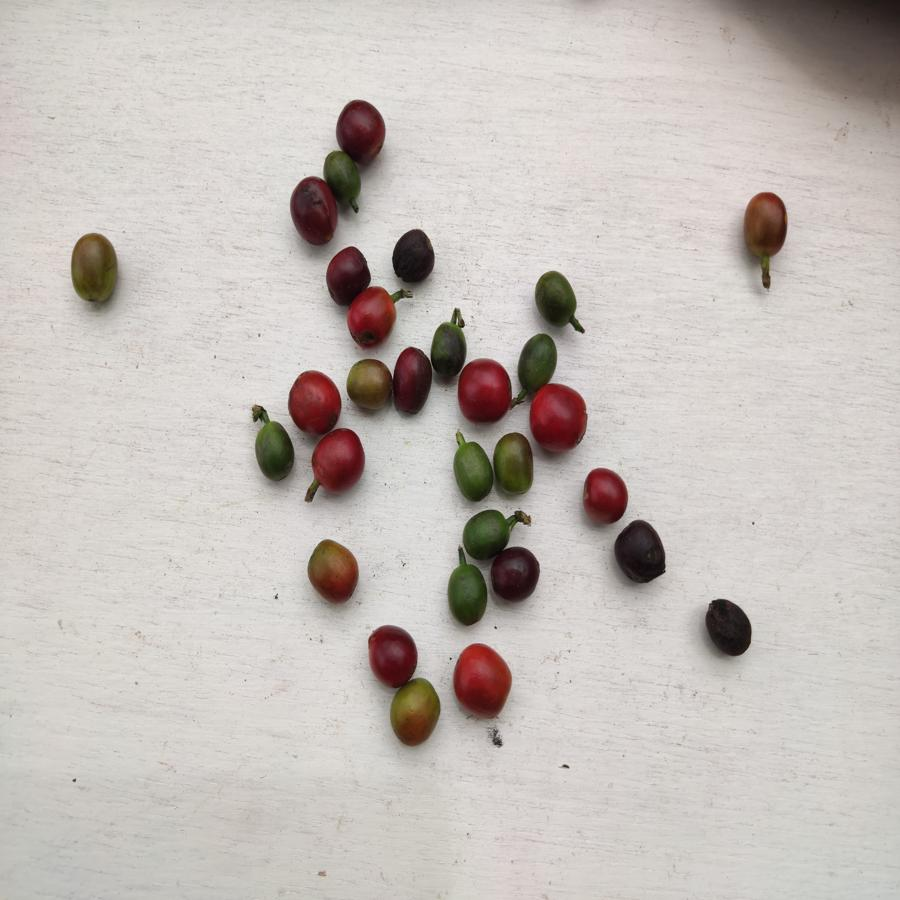Inmaduro: (445, 560, 489, 626), (530, 270, 578, 330), (451, 442, 493, 505), (459, 508, 508, 558), (519, 332, 553, 392), (429, 317, 465, 373), (327, 148, 360, 208)
Maduro: (451, 641, 513, 720), (527, 385, 589, 450), (286, 365, 342, 435), (456, 357, 515, 421), (364, 621, 424, 681), (310, 427, 365, 489), (346, 288, 396, 348), (578, 466, 631, 520)
Pinton: (303, 537, 361, 603), (69, 228, 118, 306), (387, 679, 442, 746), (739, 187, 790, 258), (490, 432, 540, 499), (346, 356, 392, 412)
Sobremaduro: (611, 520, 672, 584), (332, 97, 388, 163), (700, 596, 759, 658), (288, 176, 339, 244), (488, 548, 542, 600), (322, 245, 370, 302), (394, 345, 432, 415), (390, 228, 435, 283)
